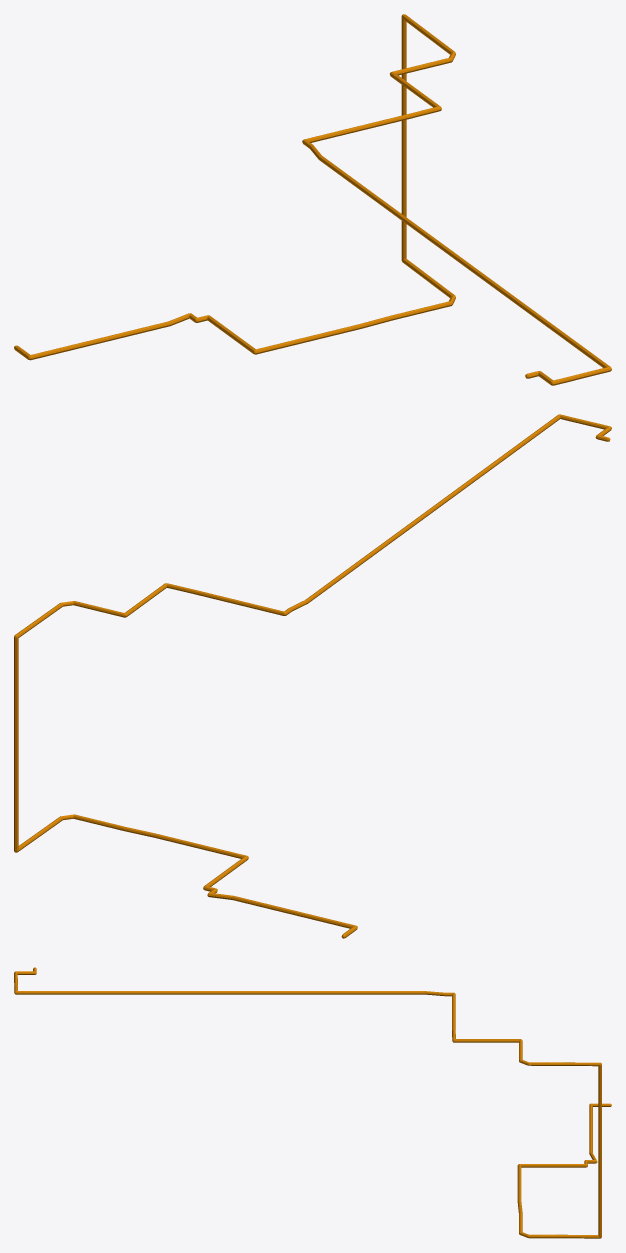
3 views of the same model, one above another, from view 1: azimuth 30°, elevation 25°; view 2: azimuth 150°, elevation 25°; view 3: azimuth 270°, elevation 25° (orthographic). The views are drawn at different scales.
Bounding box in the file's own units: 1655 × 1020 × 3144.
